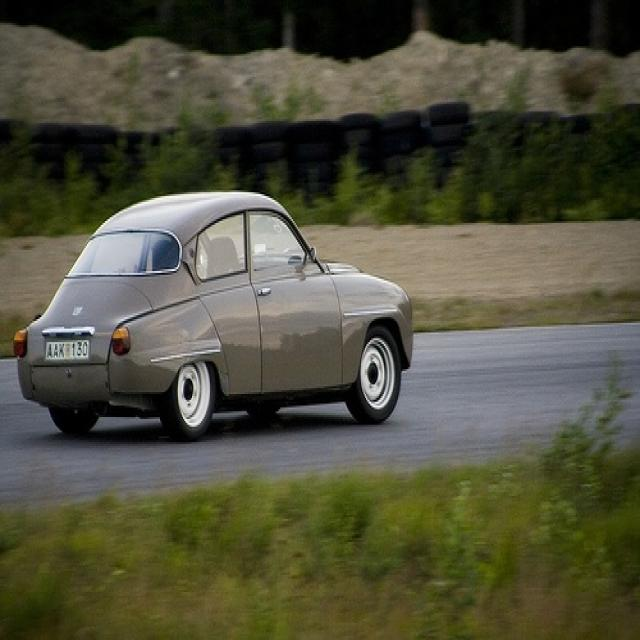car: (10, 190, 412, 442)
